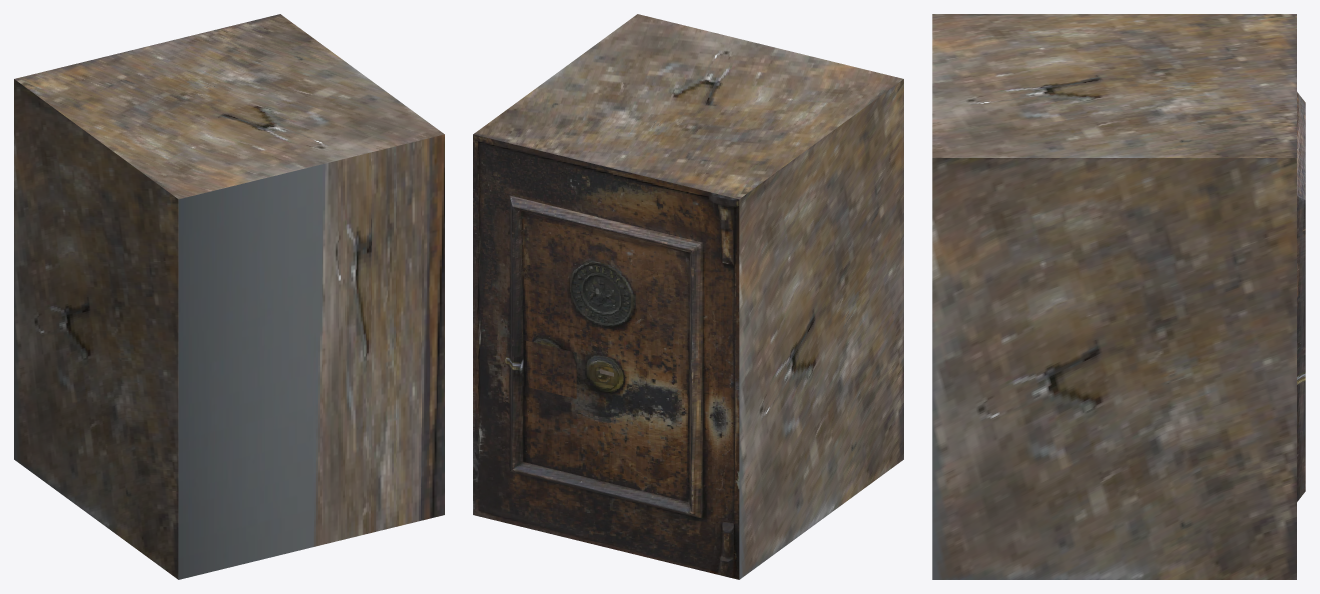
Rendered from 保险箱.fbx.
3 views of the same model, side by side, from view 1: azimuth 30°, elevation 25°; view 2: azimuth 150°, elevation 25°; view 3: azimuth 270°, elevation 25° (orthographic). The views are drawn at different scales.
Visible parts, largest first — view 1: safe; view 2: safe; view 3: safe.
Boxes of the visible parts, x1,y1,x2,y2 form: safe: (14,14,444,579); safe: (473,14,903,579); safe: (932,14,1305,579).
Size of the model in its own units: 146 by 200 by 160.
1 material, 1 textured.
